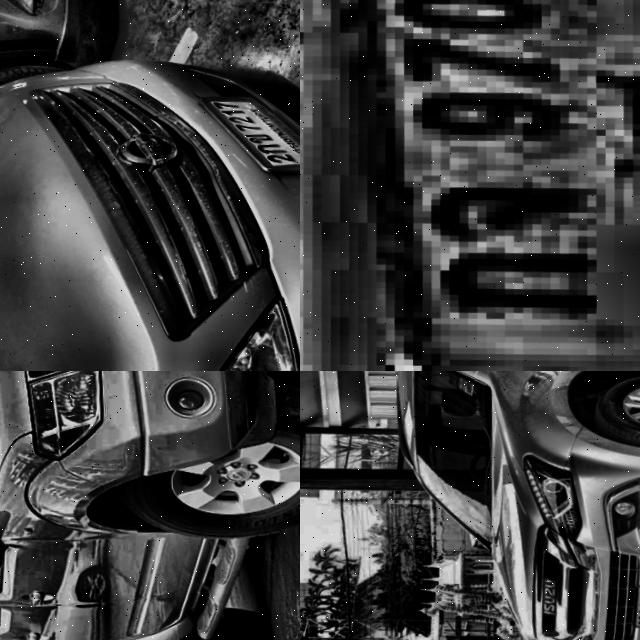license-plate: (300, 0, 640, 371), (185, 91, 300, 186), (623, 584, 640, 637)
